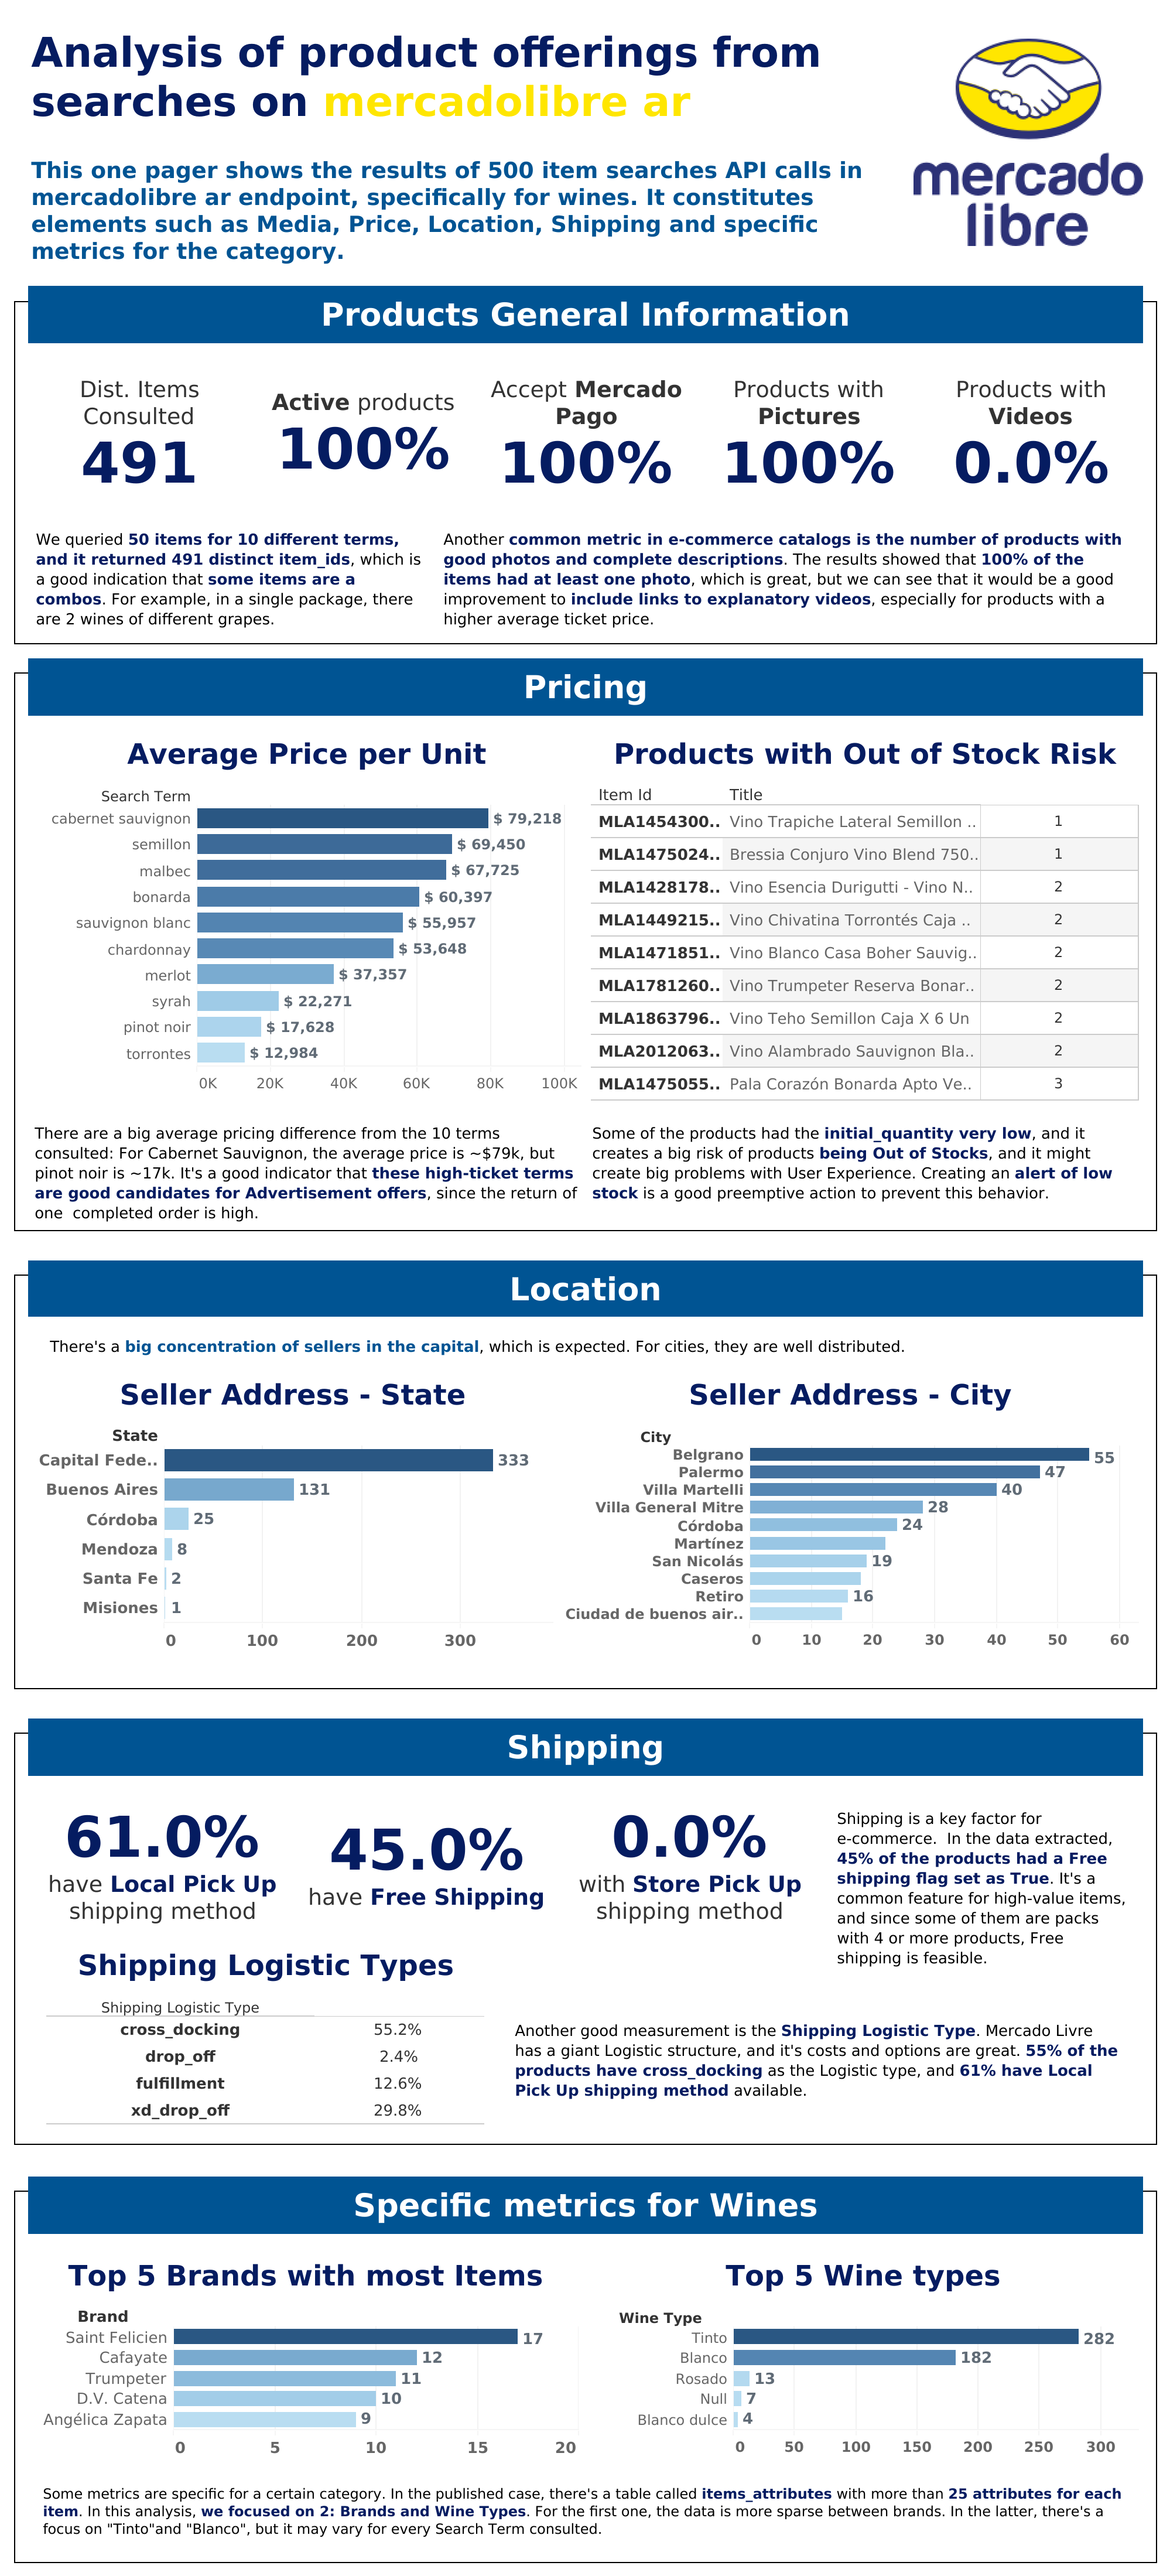

What the dashboard file says about the page in this screenshot:
{"tool":"tableau","page":{"name":"Analysis - Case 2","canvas":[1000,2200],"ordinal":0},"visuals":[{"type":"text","box":[24.4,24.4,731.7,97.8]},{"type":"image","param":"Image/mercadolibre.svg","box":[780.5,24.4,195.1,195.6]},{"type":"text","box":[24,134,732,104]},{"type":"text","box":[24.4,244.4,951.2,48.9]},{"type":"blank","box":[12.2,256.7,975.6,293.3]},{"type":"worksheet","title":"distinct count items","mark":"Automatic","box":[24,293,191,159]},{"type":"worksheet","title":"status","mark":"Automatic","box":[215,293,191,159]},{"type":"worksheet","title":"accepts mercadopago","mark":"Automatic","box":[406,293,190,159]},{"type":"worksheet","title":"Pictures Null","mark":"Automatic","box":[596,293,190,159]},{"type":"worksheet","title":"Videos Null","mark":"Automatic","box":[786,293,190,159]},{"type":"text","box":[24,448,348,100]},{"type":"text","box":[372,448,604,100]},{"type":"text","box":[24.4,562.2,951.2,48.9]},{"type":"blank","box":[12.2,574.4,975.6,476.7]},{"type":"worksheet","title":"price per unit (2)","mark":"Automatic","rows":["search_term"],"cols":["Calculation_2269392047621709829"],"box":[24,619,476,325]},{"type":"worksheet","title":"Risco de Out of Stock (2)","mark":"Automatic","rows":["item_id","title"],"box":[501,619,476,325]},{"type":"text","box":[23,955,476,96]},{"type":"text","box":[499,955,475,96]},{"type":"text","box":[24.4,1075.6,951.2,48.9]},{"type":"blank","box":[12.2,1087.8,975.6,354.4]},{"type":"text","box":[40,1136.3,935.6,25.3]},{"type":"worksheet","title":"seller adress states","mark":"Bar","rows":["seller_address_state_name"],"cols":["results-20250216-191313_0704A7D2F7174126A267BF4D6FB948E2"],"box":[24.4,1166,451.6,253]},{"type":"worksheet","title":"seller adress cities","mark":"Automatic","rows":["seller_address_city_name"],"cols":["results-20250216-191313_0704A7D2F7174126A267BF4D6FB948E2"],"box":[476,1166,499.6,253]},{"type":"text","box":[24.4,1466.7,951.2,48.9]},{"type":"blank","box":[12.2,1478.9,975.6,352]},{"type":"worksheet","title":"shipping local pick up","mark":"Automatic","box":[26,1525,226,133]},{"type":"worksheet","title":"shipping free shipping","mark":"Automatic","box":[252,1525,225,133]},{"type":"worksheet","title":"shipping store pickup","mark":"Automatic","box":[477,1525,225,133]},{"type":"text","box":[712,1544,255,158]},{"type":"worksheet","title":"shipping logistic type","mark":"Automatic","rows":["shipping_logistic_type"],"box":[40,1656.6,374.4,157.3]},{"type":"text","box":[436.7,1724.8,525.6,89.1]},{"type":"text","box":[24.4,1857.8,951.2,48.9]},{"type":"blank","box":[12.2,1870,975.6,317.8]},{"type":"worksheet","title":"specific: brands (2)","mark":"Automatic","rows":["brand"],"cols":["results-20250216-191313_0704A7D2F7174126A267BF4D6FB948E2"],"box":[24.4,1918.4,463.6,189.2]},{"type":"worksheet","title":"specific: wine type (2)","mark":"Automatic","rows":["wine_type"],"cols":["results-20250216-191313_0704A7D2F7174126A267BF4D6FB948E2"],"box":[488,1918.4,487.6,189.2]},{"type":"text","box":[34.4,2120.8,932.2,60.5]}]}

Visuals, with their boxes in screenshot pixels (x1, y1, x2, y2), scaled from the page's 1000x2200 canvas onto the 1170x2576 screenshot:
text: locate(29, 29, 885, 143)
image: locate(913, 29, 1141, 258)
text: locate(28, 157, 884, 279)
text: locate(29, 286, 1141, 343)
blank: locate(14, 300, 1156, 644)
"distinct count items" worksheet: locate(28, 343, 252, 529)
"status" worksheet: locate(252, 343, 475, 529)
"accepts mercadopago" worksheet: locate(475, 343, 697, 529)
"Pictures Null" worksheet: locate(697, 343, 919, 529)
"Videos Null" worksheet: locate(919, 343, 1142, 529)
text: locate(28, 525, 435, 642)
text: locate(435, 525, 1142, 642)
text: locate(29, 658, 1141, 716)
blank: locate(14, 672, 1156, 1231)
"price per unit (2)" worksheet: locate(28, 725, 585, 1105)
"Risco de Out of Stock (2)" worksheet: locate(586, 725, 1143, 1105)
text: locate(27, 1118, 584, 1231)
text: locate(584, 1118, 1140, 1231)
text: locate(29, 1259, 1141, 1317)
blank: locate(14, 1274, 1156, 1689)
text: locate(47, 1331, 1141, 1360)
"seller adress states" worksheet (Bar marks): locate(29, 1365, 557, 1662)
"seller adress cities" worksheet: locate(557, 1365, 1141, 1662)
text: locate(29, 1717, 1141, 1775)
blank: locate(14, 1731, 1156, 2144)
"shipping local pick up" worksheet: locate(30, 1786, 295, 1941)
"shipping free shipping" worksheet: locate(295, 1786, 558, 1941)
"shipping store pickup" worksheet: locate(558, 1786, 822, 1941)
text: locate(833, 1808, 1131, 1993)
"shipping logistic type" worksheet: locate(47, 1940, 485, 2124)
text: locate(511, 2020, 1126, 2124)
text: locate(29, 2175, 1141, 2233)
blank: locate(14, 2189, 1156, 2562)
"specific: brands (2)" worksheet: locate(29, 2246, 571, 2468)
"specific: wine type (2)" worksheet: locate(571, 2246, 1141, 2468)
text: locate(40, 2483, 1131, 2554)
